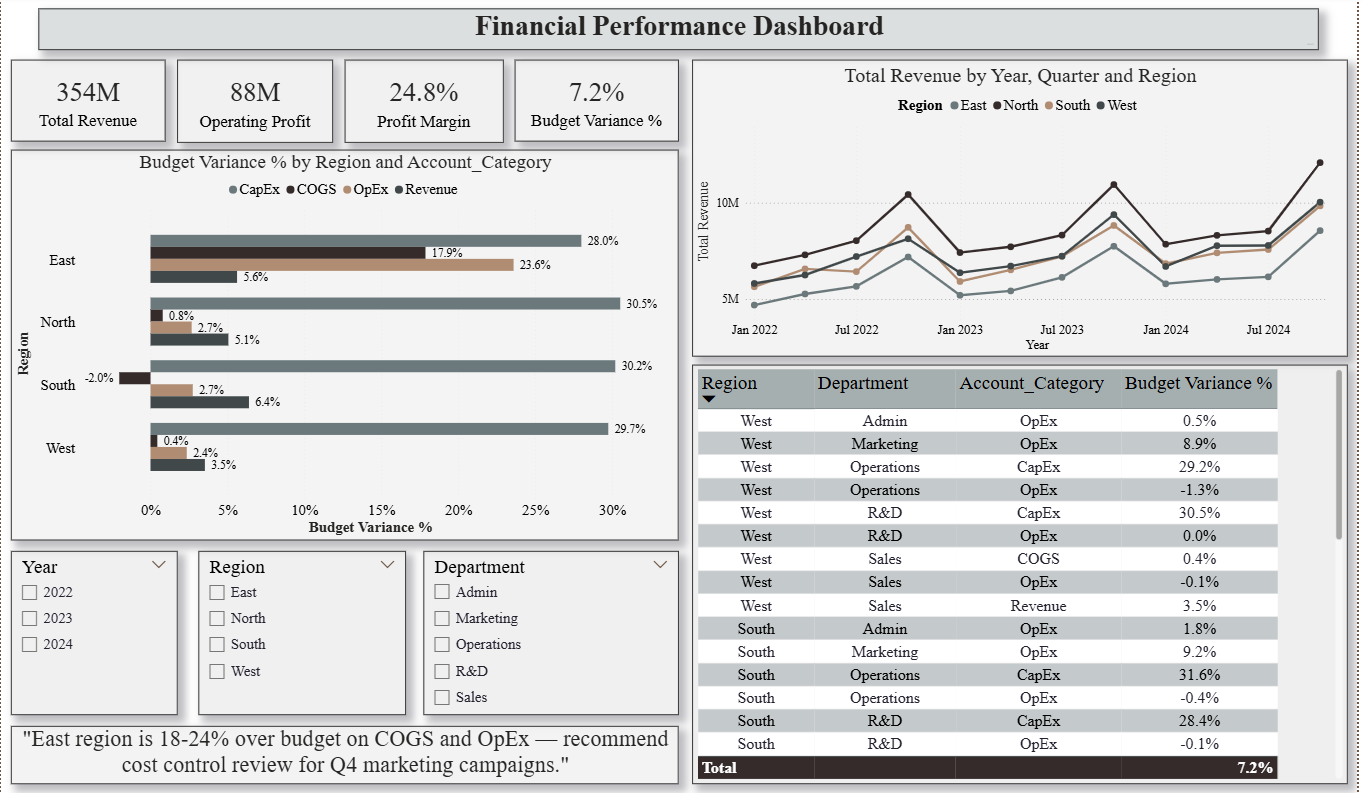

The dashboard page shown, as its layout file describes it:
{"tool":"powerbi","page":{"name":"Page 1","canvas":[1700,1001],"ordinal":0},"visuals":[{"type":"card","fields":{"Values":["Financial_Performance_Budget_vs_Actual.Total Revenue"]},"box":[12.1,79.6,193.7,102],"z":0},{"type":"card","fields":{"Values":["Financial_Performance_Budget_vs_Actual.Operating Profit"]},"box":[221.4,79.6,195.4,103.8],"z":1000},{"type":"card","fields":{"Values":["Financial_Performance_Budget_vs_Actual.Profit Margin %"]},"box":[430.6,79.6,198.9,103.8],"z":2000},{"type":"card","fields":{"Values":["Financial_Performance_Budget_vs_Actual.Budget Variance %"]},"box":[643.4,79.6,205.8,102],"z":3000},{"type":"slicer","fields":{"Values":["Financial_Performance_Budget_vs_Actual.Region"]},"box":[247.6,695.8,260.1,205.3],"z":4000},{"type":"slicer","fields":{"Values":["Financial_Performance_Budget_vs_Actual.Year"]},"box":[12.5,695.8,208.4,205.3],"z":5000},{"type":"slicer","fields":{"Values":["Financial_Performance_Budget_vs_Actual.Department"]},"box":[529.6,695.8,319.7,205.3],"z":6000},{"type":"textbox","title":"Financial Performance Dashboard","box":[46.7,15.6,1604.9,51.9],"z":7000},{"type":"lineChart","fields":{"Y":["Financial_Performance_Budget_vs_Actual.Total Revenue"],"Series":["Financial_Performance_Budget_vs_Actual.Region"],"Category":["Financial_Performance_Budget_vs_Actual.Date.Variation.Date Hierarchy.Year","Financial_Performance_Budget_vs_Actual.Date.Variation.Date Hierarchy.Quarter"]},"box":[866.5,79.6,821.5,371.8],"z":8000},{"type":"clusteredBarChart","fields":{"Y":["Financial_Performance_Budget_vs_Actual.Budget Variance %"],"Category":["Financial_Performance_Budget_vs_Actual.Region"],"Series":["Financial_Performance_Budget_vs_Actual.Account_Category"]},"box":[12.1,192,837.1,489.4],"z":9000},{"type":"tableEx","fields":{"Values":["Financial_Performance_Budget_vs_Actual.Region","Financial_Performance_Budget_vs_Actual.Department","Financial_Performance_Budget_vs_Actual.Account_Category","Financial_Performance_Budget_vs_Actual.Budget Variance %"]},"box":[866.5,461.8,821.5,525.8],"z":10000},{"type":"textbox","title":"\"East region is 18-24% over budget on COGS and OpEx — recommend cost control review for Q4 marketing campaigns.\"","box":[12.1,914.9,837.1,72.6],"z":11000}]}

Visuals, with their boxes in screenshot pixels (x1, y1, x2, y2), scaled from the page's 1700x1001 canvas onto the 1361x793 screenshot:
card - Financial_Performance_Budget_vs_Actual.Total Revenue: select_region(10, 63, 165, 144)
card - Financial_Performance_Budget_vs_Actual.Operating Profit: select_region(177, 63, 334, 145)
card - Financial_Performance_Budget_vs_Actual.Profit Margin %: select_region(345, 63, 504, 145)
card - Financial_Performance_Budget_vs_Actual.Budget Variance %: select_region(515, 63, 680, 144)
slicer - Financial_Performance_Budget_vs_Actual.Region: select_region(198, 551, 406, 714)
slicer - Financial_Performance_Budget_vs_Actual.Year: select_region(10, 551, 177, 714)
slicer - Financial_Performance_Budget_vs_Actual.Department: select_region(424, 551, 680, 714)
"Financial Performance Dashboard" textbox: select_region(37, 12, 1322, 53)
lineChart - Financial_Performance_Budget_vs_Actual.Total Revenue x Financial_Performance_Budget_vs_Actual.Region: select_region(694, 63, 1351, 358)
clusteredBarChart - Financial_Performance_Budget_vs_Actual.Budget Variance % x Financial_Performance_Budget_vs_Actual.Region: select_region(10, 152, 680, 540)
tableEx - Financial_Performance_Budget_vs_Actual.Region x Financial_Performance_Budget_vs_Actual.Department: select_region(694, 366, 1351, 782)
""East region is 18-24% over budget on COGS and OpEx — recommend cost control review for Q4 marketing campaigns."" textbox: select_region(10, 725, 680, 782)
